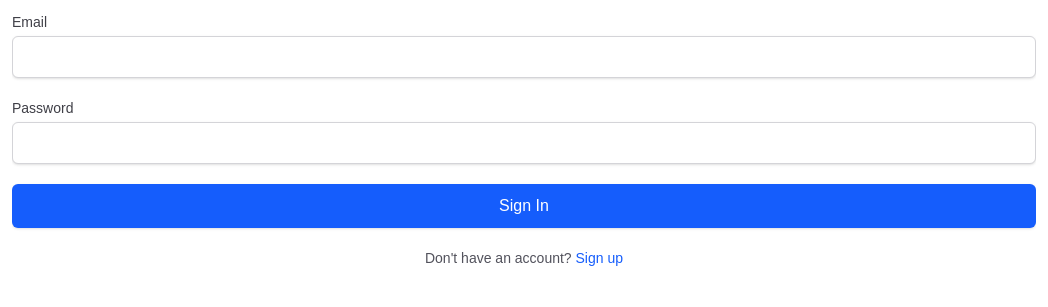
SigninForm › shows validation error for empty email on submit
The image size is (1048, 307).
Type "password123" into the password field labelled "Password" at (524, 143), box [12,122,1036,164]
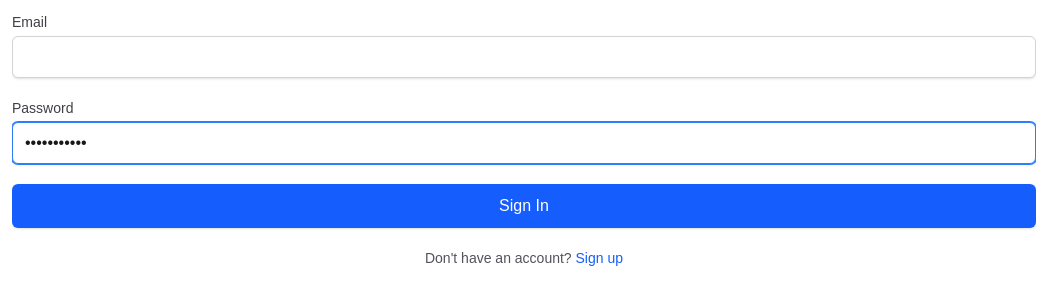
Click the button "Sign In" at (524, 206), box [12,184,1036,228]
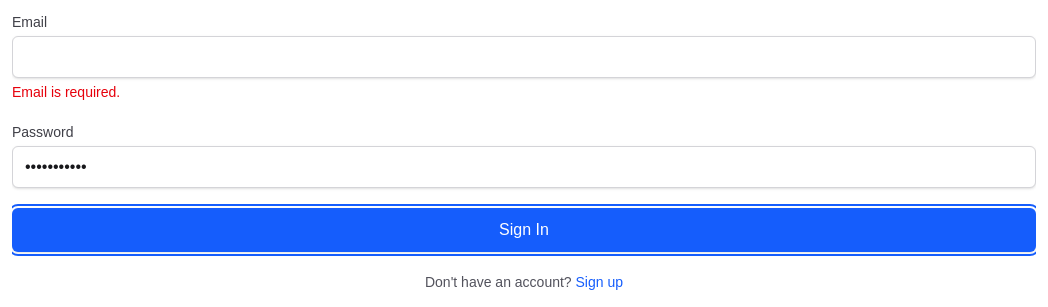
Now the text "Email is required." is shown, box [12,84,120,100]
